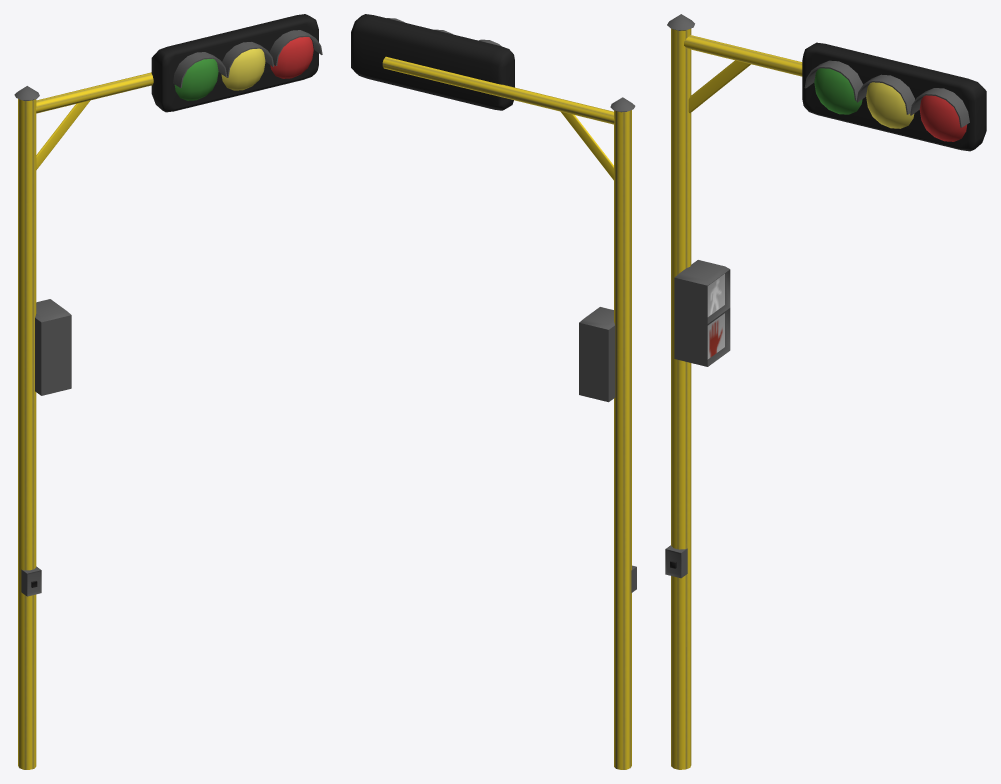
The model's file is TraficLight_001.fbx.
3 renders of one model, left to right at view 1: azimuth 30°, elevation 25°; view 2: azimuth 150°, elevation 25°; view 3: azimuth 330°, elevation 25°, orthographic. The views are drawn at different scales.
Parts seen in each view (by area): view 1: TraficLight_001; view 2: TraficLight_001; view 3: TraficLight_001.
Part boxes in pixels (x1=…): TraficLight_001: x1=14, y1=14, x2=322, y2=769; TraficLight_001: x1=351, y1=14, x2=636, y2=769; TraficLight_001: x1=665, y1=14, x2=986, y2=769.
Size of the model in its own units: 8.03 by 18.27 by 1.49.
